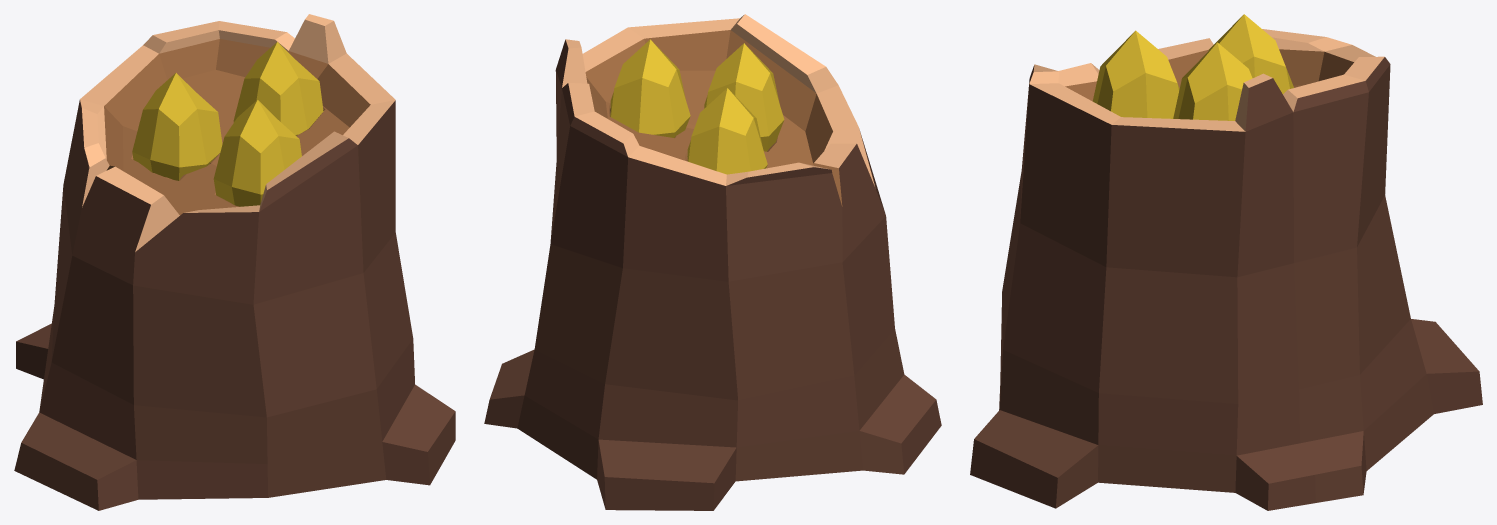
The model's file is penek3.fbx.
3 renders of one model, left to right at view 1: azimuth 30°, elevation 25°; view 2: azimuth 150°, elevation 25°; view 3: azimuth 270°, elevation 25°, orthographic. The views are drawn at different scales.
Parts seen in each view (by area): view 1: stump.001, Cube.001, Cube.002, Cube; view 2: stump.001, Cube, Cube.001, Cube.002; view 3: stump.001, Cube.002, Cube, Cube.001.
Part boxes in pixels (box(x1,y1,x2,y2)): stump.001: box(14, 14, 455, 510); Cube.001: box(132, 73, 222, 180); Cube.002: box(213, 99, 301, 206); Cube: box(233, 42, 323, 135); stump.001: box(484, 14, 941, 510); Cube: box(610, 39, 690, 137); Cube.001: box(687, 88, 767, 174); Cube.002: box(704, 43, 784, 151); stump.001: box(970, 29, 1482, 510); Cube.002: box(1092, 30, 1179, 118); Cube: box(1173, 42, 1252, 120); Cube.001: box(1208, 14, 1293, 93).
Size of the model in its own units: 114 by 104 by 118.
